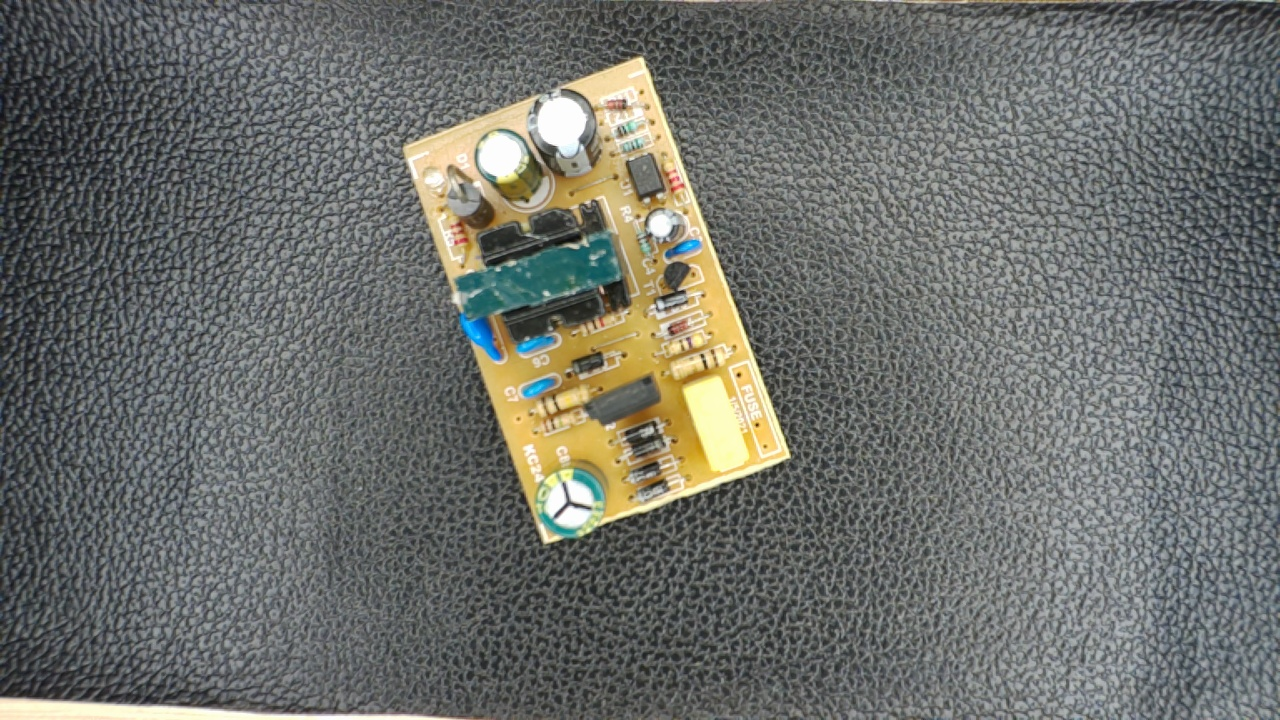hv_capacitor: (533, 456, 609, 539)
mov: (456, 296, 503, 365)
optocoupler: (624, 149, 671, 206)
